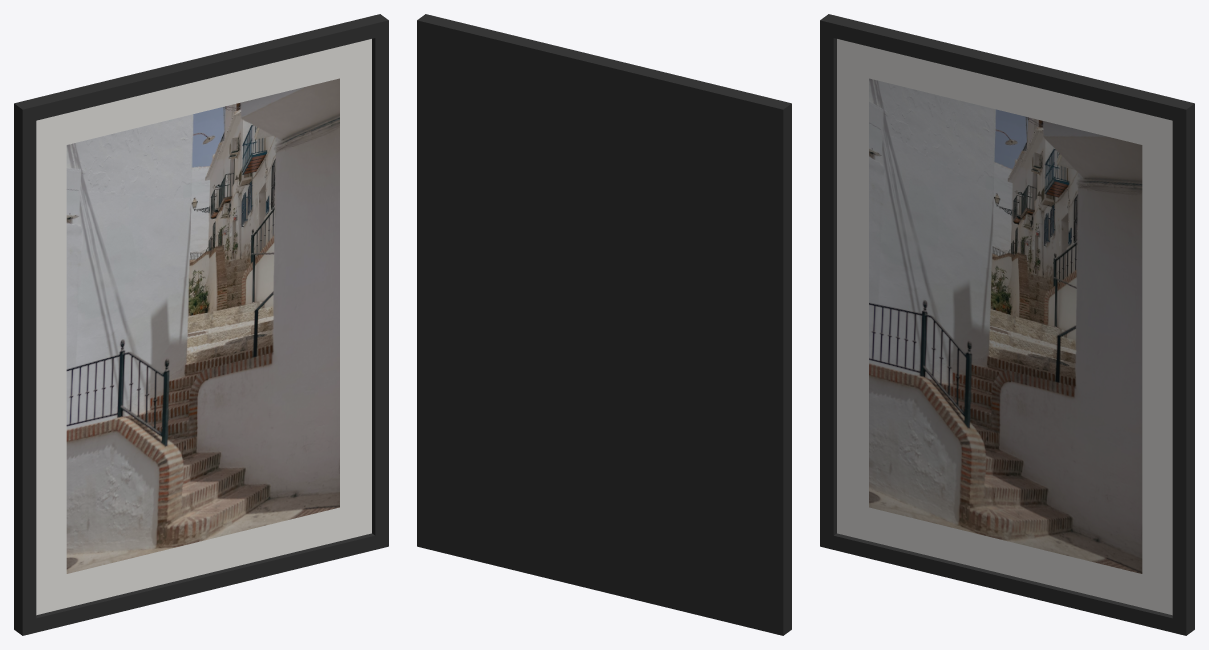
File: trapporna-60.gltf
3 views of the same model, side by side, from view 1: azimuth 30°, elevation 25°; view 2: azimuth 150°, elevation 25°; view 3: azimuth 330°, elevation 25° (orthographic).
Parts seen in each view (by area): view 1: tavla; view 2: tavla; view 3: tavla.
Part boxes in pixels (x1,y1,x2,y2): tavla: [14, 14, 388, 635]; tavla: [417, 14, 791, 635]; tavla: [820, 14, 1194, 635].
Bounding box in the file's own units: 0.536 × 0.736 × 0.022.
3 materials, 1 textured.
